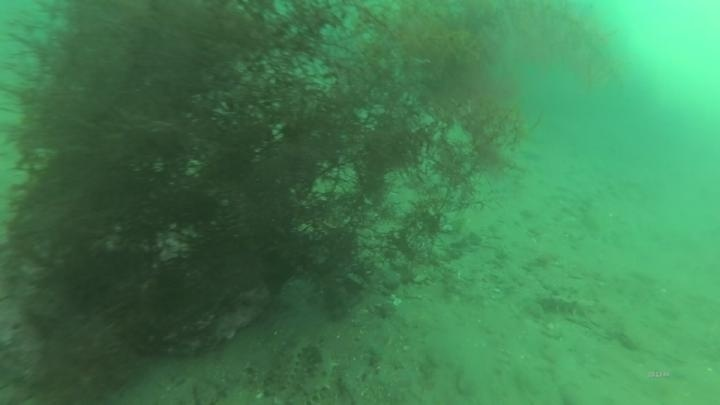holothurian: (294, 340, 341, 405), (533, 291, 597, 321)
